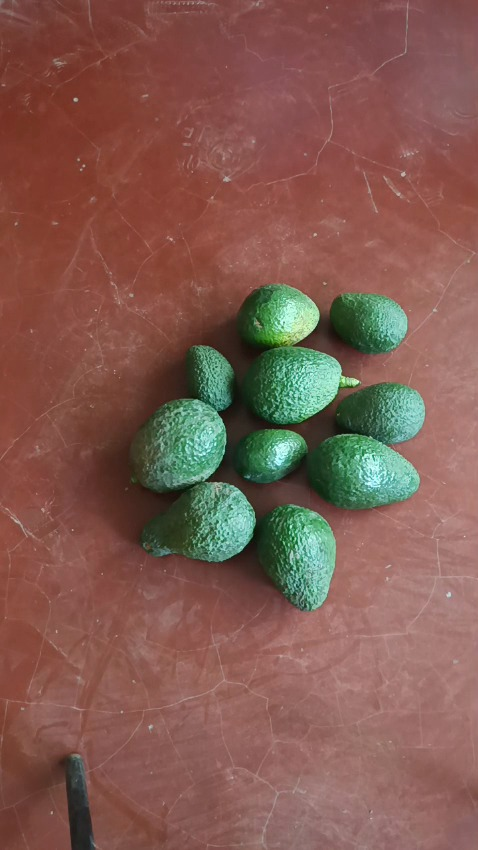Primera: (129, 398, 228, 492), (140, 482, 256, 562), (253, 504, 336, 608), (306, 434, 421, 509), (241, 346, 341, 424)
Segunda: (334, 382, 425, 444), (236, 283, 319, 348)
Tercera: (329, 292, 408, 353), (232, 428, 308, 483), (184, 344, 237, 412)
